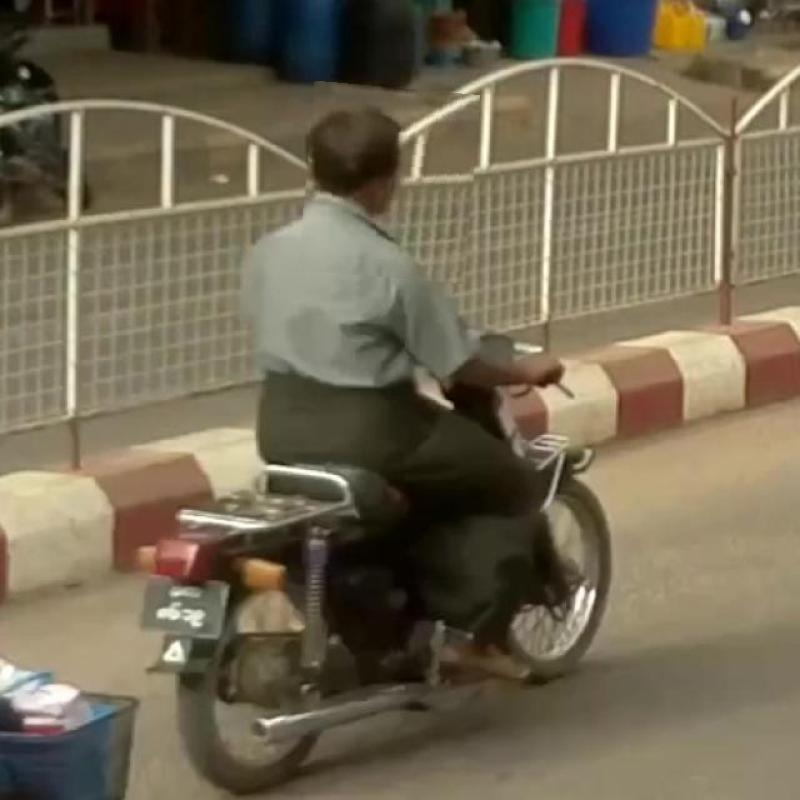nohelmet: (302, 85, 477, 282)
